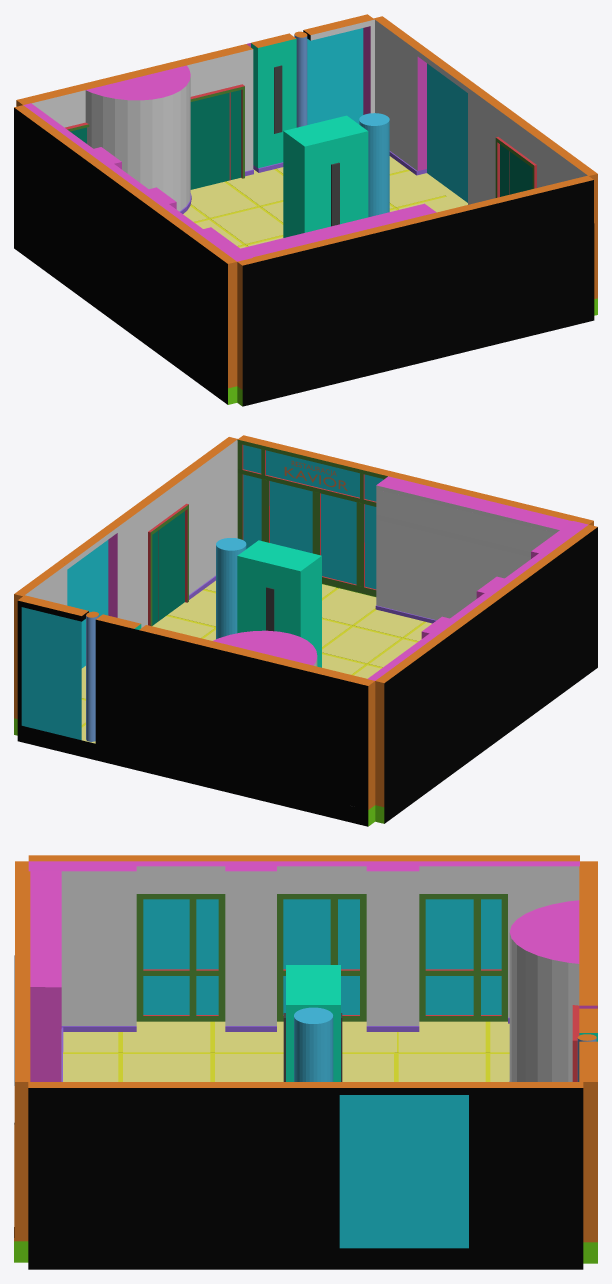
The model's file is hallLecture.fbx.
3 views of the same model, one above another, from view 1: azimuth 30°, elevation 25°; view 2: azimuth 150°, elevation 25°; view 3: azimuth 270°, elevation 25° (orthographic). The views are drawn at different scales.
Visible parts, largest first — view 1: wallE, wallS, wallW, floor, wallN, doorW2, doorW, doorN; view 2: wallW, wallS, wallE, floor, wallN, doorW2, doorN; view 3: wallN, wallS, floor, doorN, wallW, wallE.
Boxes of the visible parts, left/top/right/bottom form: wallE: left=237, top=175, right=594, bottom=406; wallS: left=14, top=103, right=252, bottom=404; wallW: left=16, top=14, right=374, bottom=213; floor: left=183, top=113, right=459, bottom=248; wallN: left=373, top=16, right=597, bottom=315; doorW2: left=307, top=28, right=363, bottom=124; doorW: left=190, top=90, right=241, bottom=189; doorN: left=427, top=63, right=467, bottom=202; wallW: left=17, top=595, right=375, bottom=826; wallS: left=368, top=521, right=597, bottom=823; wallE: left=237, top=435, right=593, bottom=623; floor: left=81, top=538, right=432, bottom=734; wallN: left=14, top=437, right=237, bottom=735; doorW2: left=21, top=607, right=81, bottom=740; doorN: left=67, top=540, right=108, bottom=668; wallN: left=28, top=1082, right=583, bottom=1269; wallS: left=28, top=855, right=579, bottom=1031; floor: left=63, top=965, right=509, bottom=1081; doorN: left=339, top=1095, right=468, bottom=1248; wallW: left=509, top=861, right=597, bottom=1263; wallE: left=14, top=861, right=63, bottom=1262.
Size of the model in its own units: 700 by 257 by 743.
